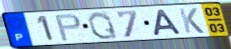1: (36, 14, 56, 43)
7: (115, 9, 140, 39)
A: (152, 8, 184, 37)
K: (177, 7, 206, 35)
P: (54, 13, 83, 43)
Q: (87, 10, 120, 41)
